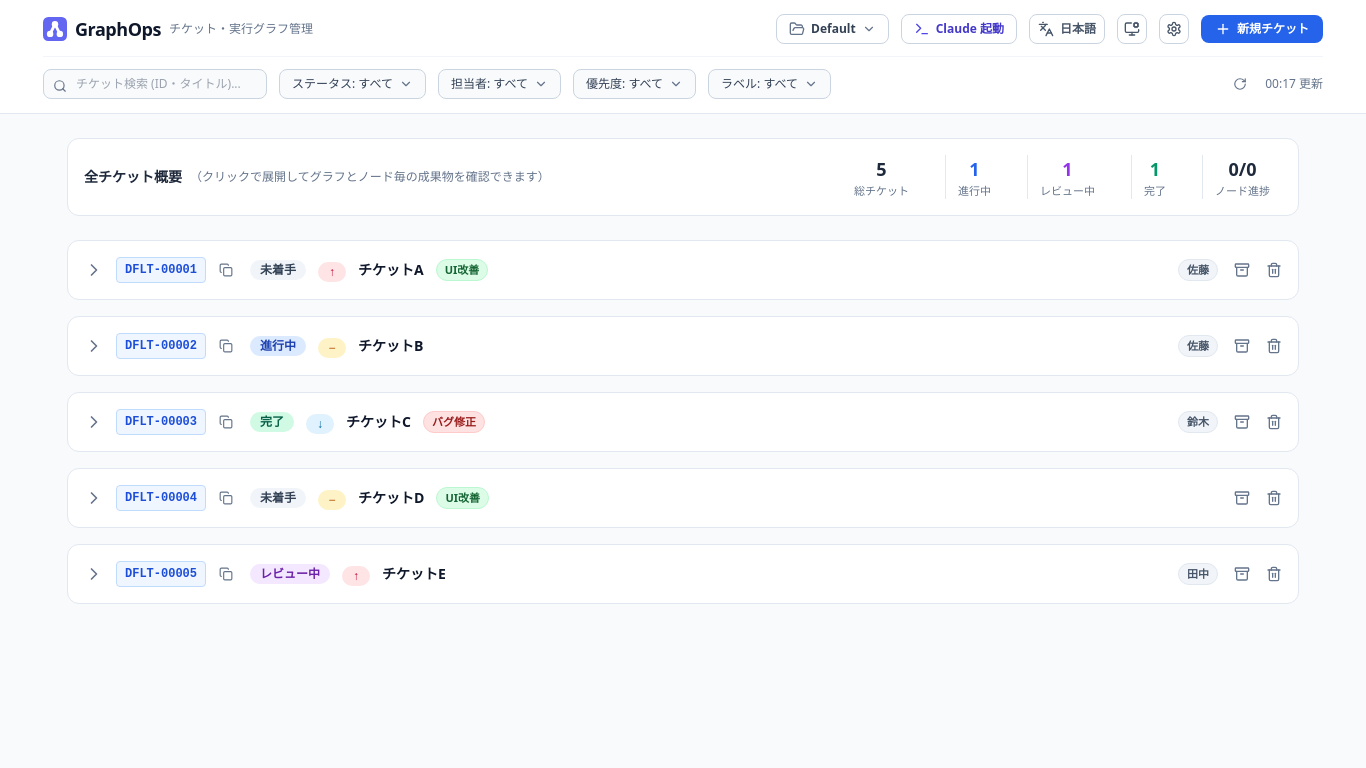
Test: App toolbar filters › the same control four times › gives the assignee filter the shared ARIA wiring
The image size is (1366, 768).
Expected: the text "DFLT-00001" is shown, left=116, top=257, right=206, bottom=283
Step 1. Click the button "担当者: すべて" → click(500, 84), box left=438, top=69, right=561, bottom=99
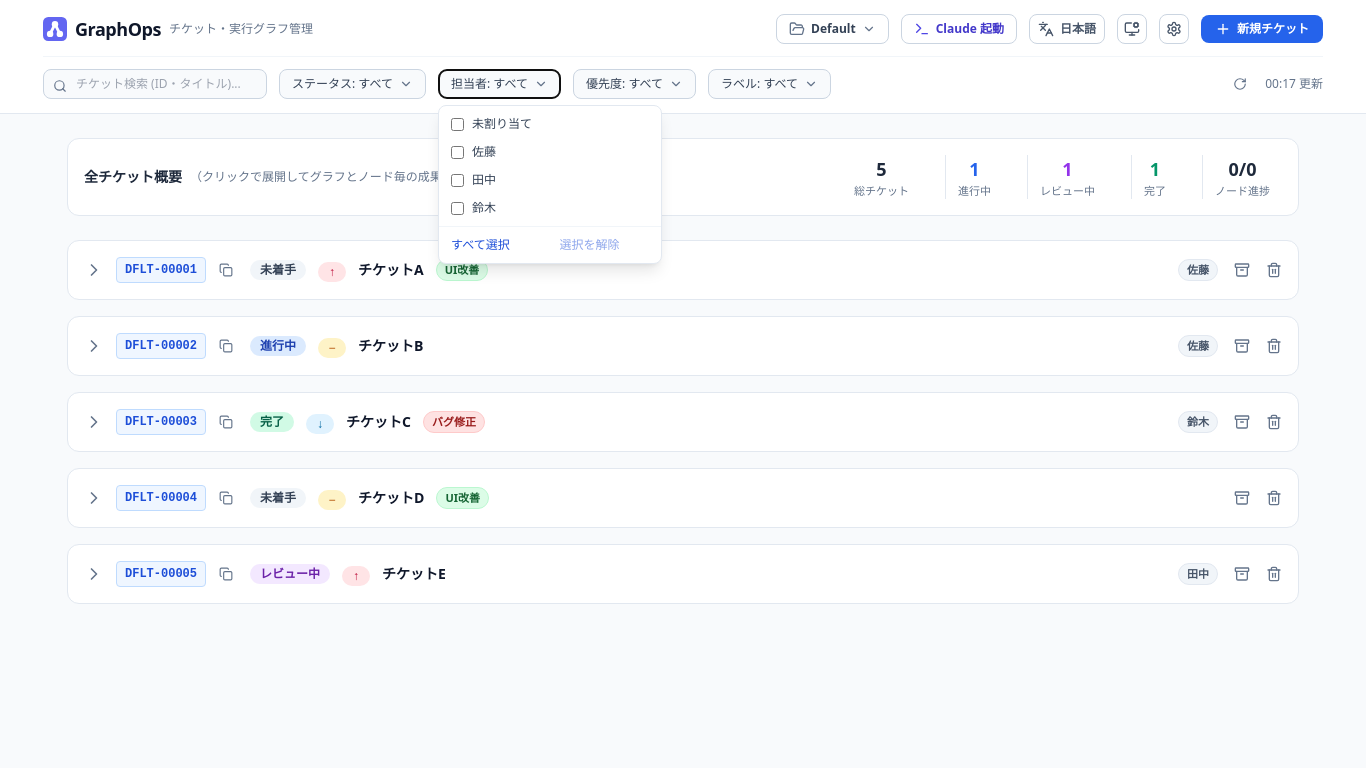
Expected: the element named "担当者で絞り込む" is shown, left=438, top=105, right=662, bottom=264
